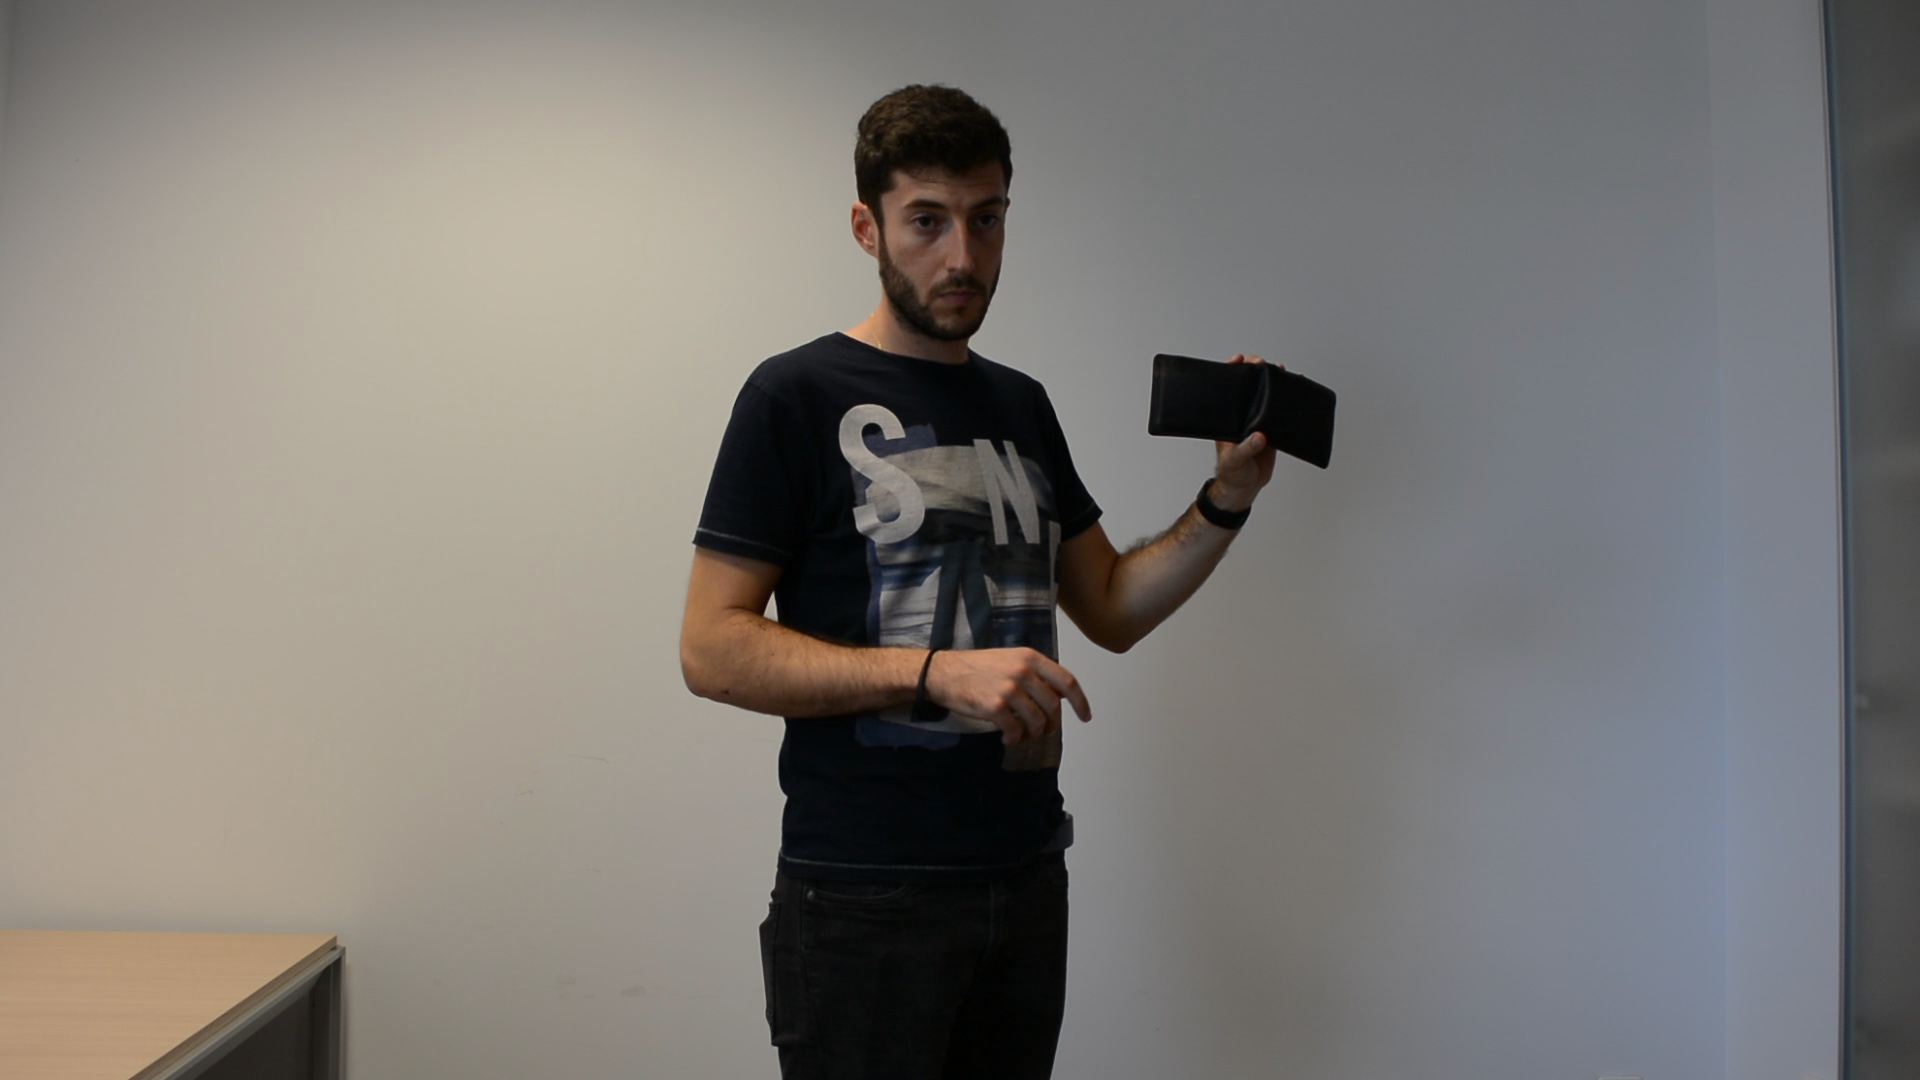monedero: (1146, 349, 1340, 471)
